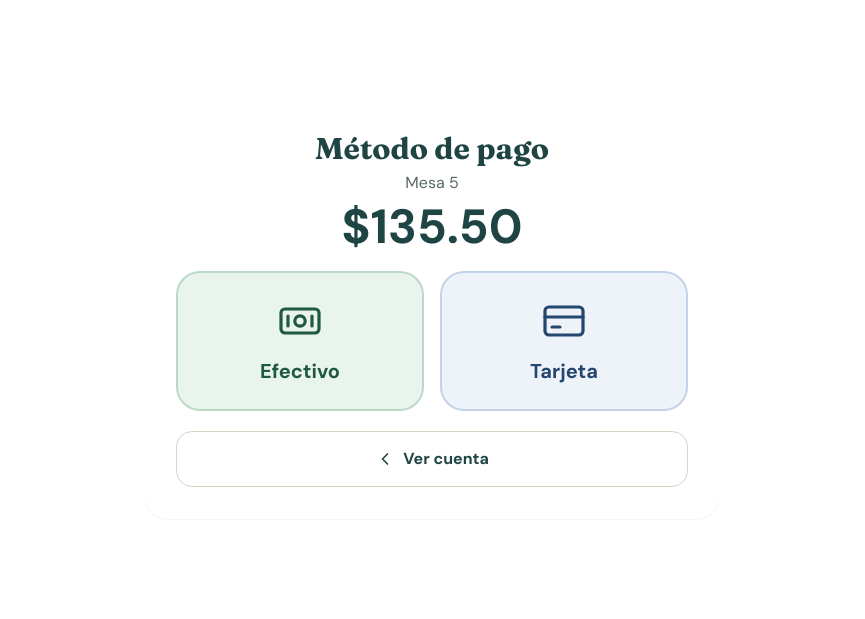
Test: PasosPago › efectivo: muestra el cambio en vivo y cobra con el monto recibido
Later steps or results of the test are not shown.
Click the button "Efectivo" at (300, 341), box [176, 271, 424, 411]
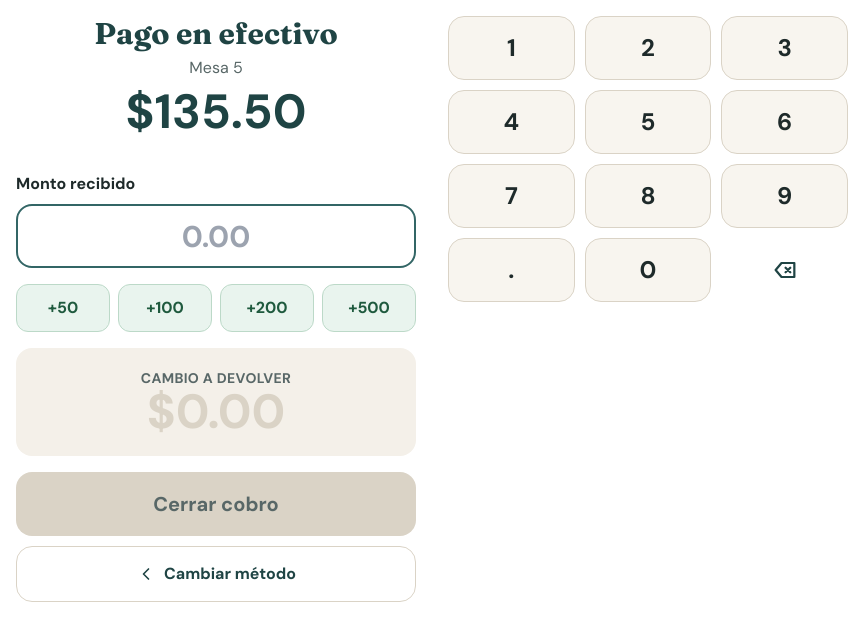
Type "200" into the field labelled "Monto recibido" at (216, 236), box [16, 204, 416, 268]
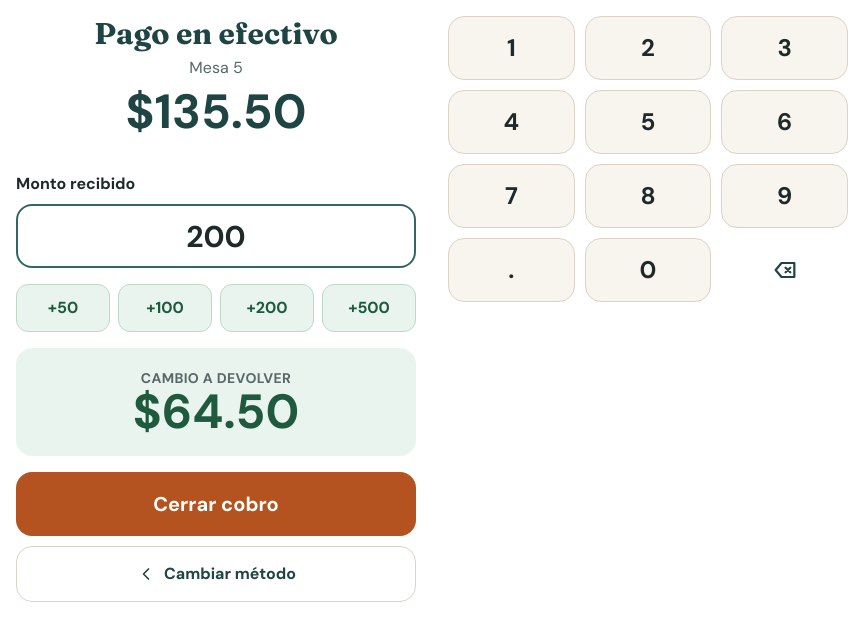
expect the text "$64.50" is shown: met, box [133, 380, 299, 443]
